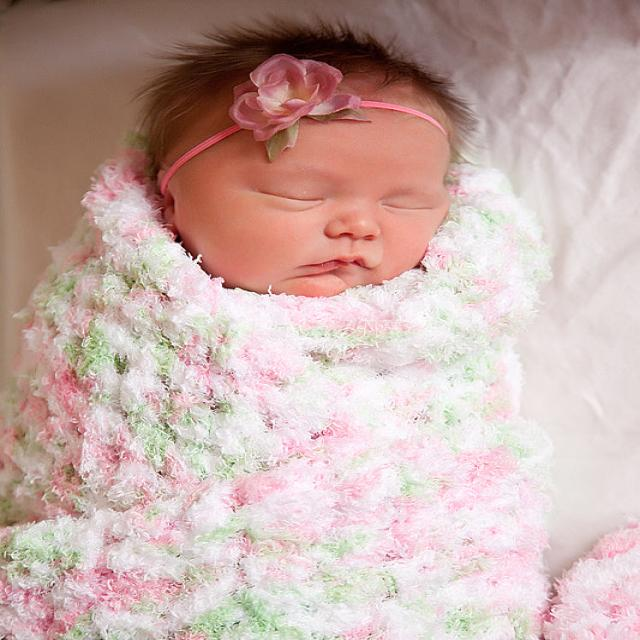blanket: (3, 151, 549, 639)
